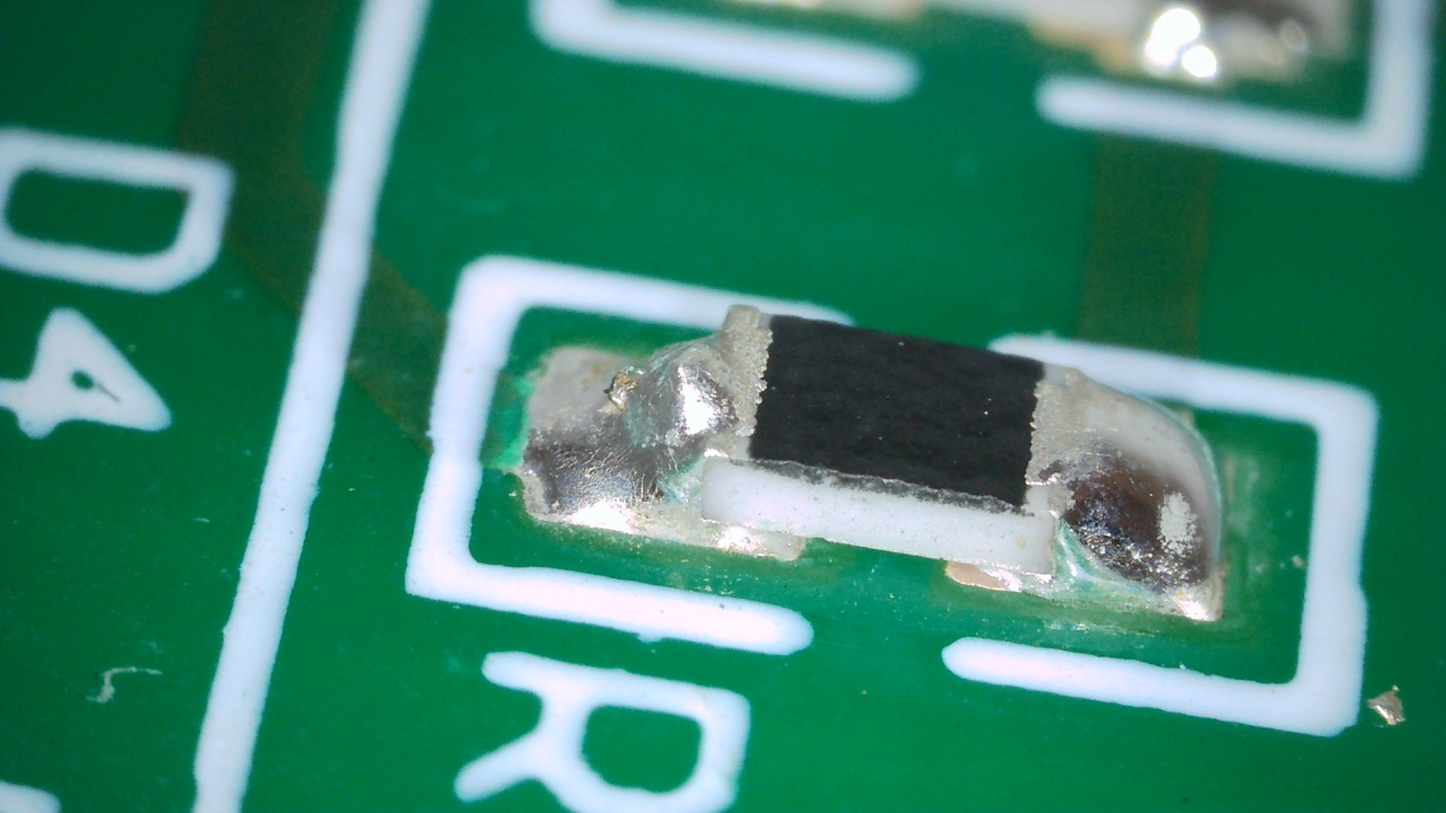NG: (1024, 364, 1219, 589), (609, 331, 735, 485)
